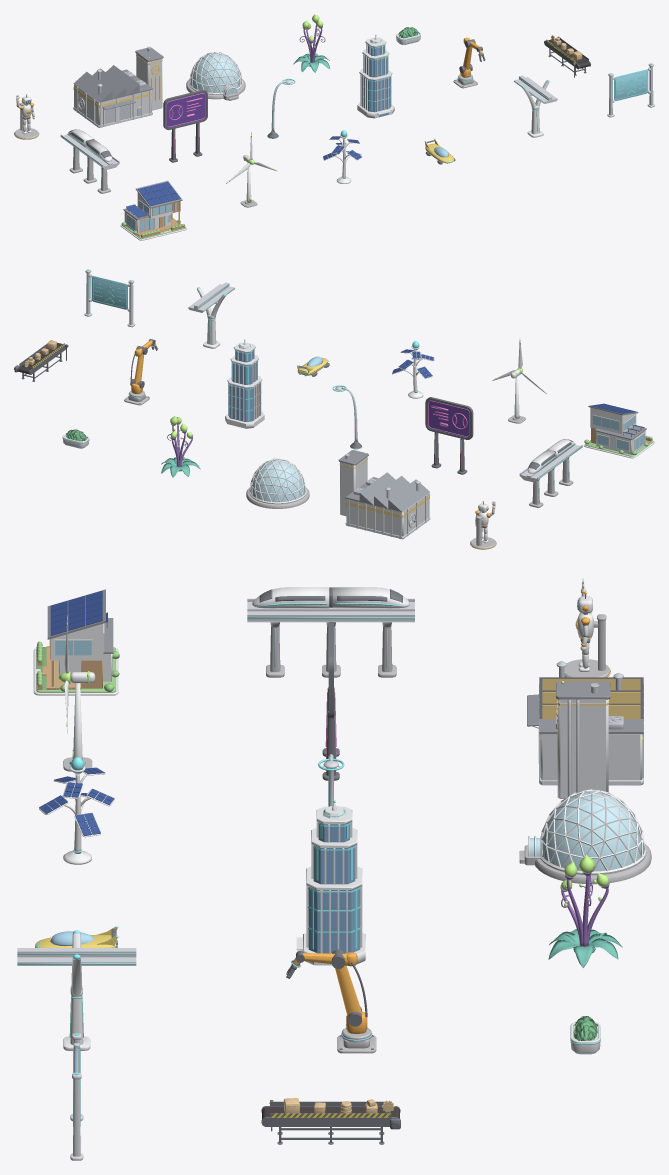
The model's file is RunwayWorld3City.fbx.
The picture shows the model from 3 angles, top to bottom: view 1: azimuth 30°, elevation 25°; view 2: azimuth 150°, elevation 25°; view 3: azimuth 270°, elevation 25°; orthographic projection. The views are drawn at different scales.
Visible parts, largest first — view 1: FactoryWalls, FactoryRoof, BiodomeGlass, SkyscraperFrame, SkyscraperGlass, BiodomeFrame, BillboardScreen, HoloSignPanel, EcoHouseSolar, BillboardFrame, EcoHouseWalls, FactoryVents (+18 smaller); view 2: FactoryWalls, FactoryRoof, BiodomeGlass, SkyscraperFrame, SkyscraperGlass, BiodomeFrame, EcoHouseWalls, BillboardScreen, HoloSignPanel, BillboardFrame, EcoHouseGlass, ViaductPillars (+13 smaller); view 3: FactoryWalls, BiodomeGlass, SkyscraperGlass, SkyscraperFrame, BiodomeFrame, ConveyorFrame, FactoryRoof, ViaductTrack, ViaductTrain, EcoHouseWalls, FactoryGlow, PylonRail (+22 smaller).
Part boxes in pixels (x1,y1,x2,y2): FactoryWalls: (73,53,162,127); FactoryRoof: (73,48,163,109); BiodomeGlass: (190,53,241,95); SkyscraperFrame: (357,36,394,118); SkyscraperGlass: (361,45,391,117); BiodomeFrame: (189,52,242,95); BillboardScreen: (166,92,205,127); HoloSignPanel: (614,69,648,100); EcoHouseSolar: (126,181,180,217); BillboardFrame: (163,90,207,162); EcoHouseWalls: (120,192,187,240); FactoryVents: (78,46,151,124); FactoryWalls: (340,457,430,539); FactoryRoof: (338,450,429,512); BiodomeGlass: (250,459,304,502); SkyscraperFrame: (225,341,264,428); SkyscraperGlass: (228,351,259,421); BiodomeFrame: (249,458,306,503); EcoHouseWalls: (583,407,654,458); BillboardScreen: (427,400,469,437); HoloSignPanel: (91,276,127,309); BillboardFrame: (425,397,473,474); EcoHouseGlass: (593,415,644,450); ViaductPillars: (529,457,573,507); FactoryWalls: (538,683,643,798); BiodomeGlass: (530,792,643,871); SkyscraperGlass: (302,822,360,953); SkyscraperFrame: (296,803,365,965); BiodomeFrame: (528,789,646,873); ConveyorFrame: (261,1100,400,1144); FactoryRoof: (527,677,643,734); ViaductTrack: (247,598,414,622); ViaductTrain: (252,587,409,608); EcoHouseWalls: (33,623,118,695); FactoryGlow: (540,679,642,776); PylonRail: (17,948,136,965).
Bounding box in the file's own units: 14283 × 1979 × 7477.
